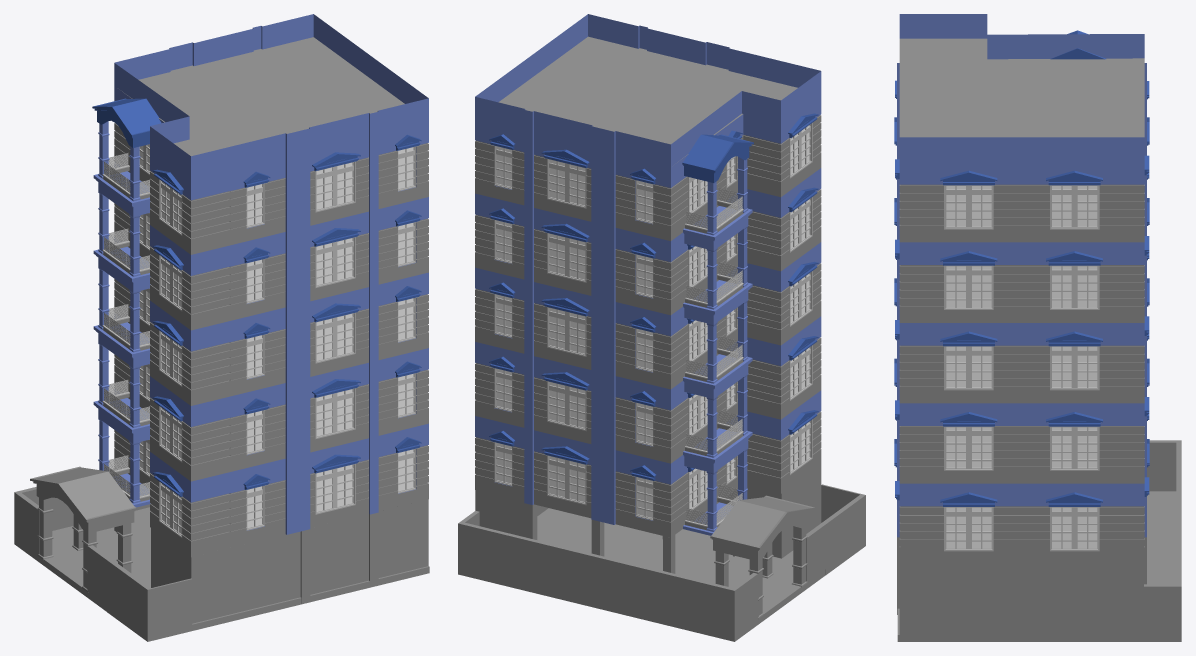
The model's file is Building.gltf.
The picture shows the model from 3 angles, left to right: view 1: azimuth 30°, elevation 25°; view 2: azimuth 150°, elevation 25°; view 3: azimuth 270°, elevation 25°; orthographic projection. The views are drawn at different scales.
Parts seen in each view (by area): view 1: Cube.013; view 2: Cube.013; view 3: Cube.013.
Part boxes in pixels (bbox=[...]): Cube.013: bbox=[14, 14, 429, 641]; Cube.013: bbox=[458, 14, 865, 641]; Cube.013: bbox=[894, 14, 1181, 641].
Size of the model in its own units: 7.29 by 11.36 by 5.86.
